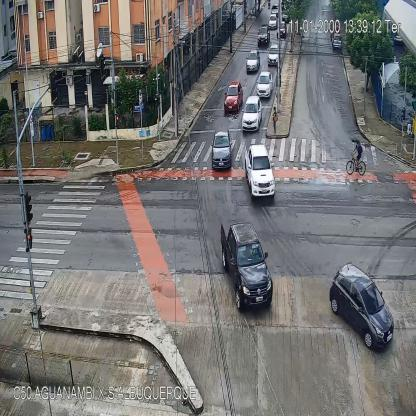bicycle: (346, 140, 367, 176)
car: (330, 262, 394, 348), (221, 216, 273, 310), (244, 142, 276, 201), (211, 129, 232, 170), (241, 95, 261, 131), (224, 80, 243, 112), (256, 71, 272, 97), (246, 47, 261, 72), (258, 25, 269, 47), (268, 43, 278, 64), (268, 14, 278, 29), (278, 22, 286, 38), (332, 35, 341, 49), (270, 6, 278, 18)
person: (272, 106, 278, 132), (249, 7, 252, 20)
